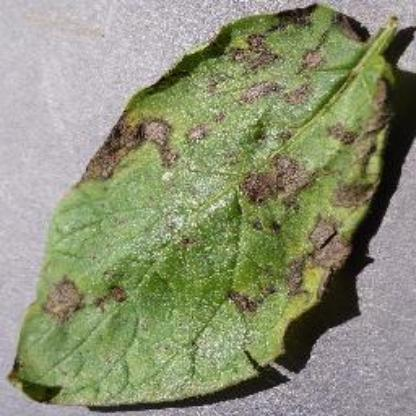Early-Blight: (9, 3, 408, 410)
